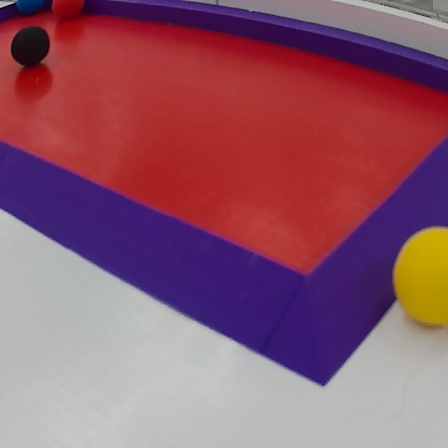black: (4, 24, 60, 69)
red: (51, 0, 91, 24)
red_aim: (0, 0, 442, 389)
yellow: (395, 222, 448, 329)
